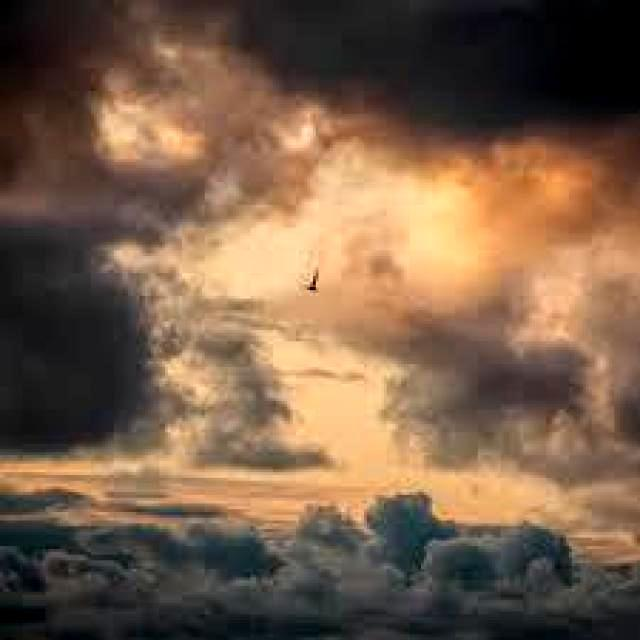bird: (296, 263, 326, 297)
